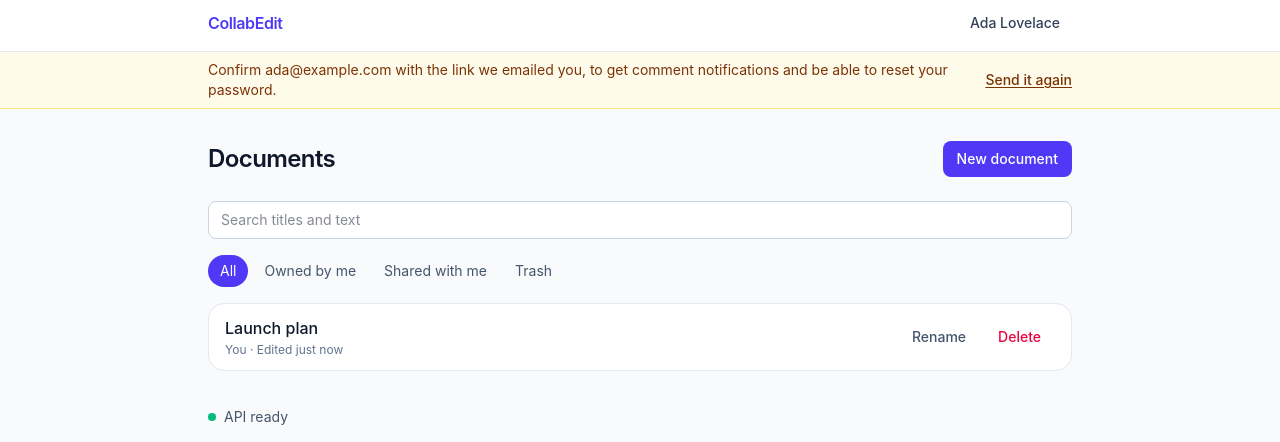
Scenario: email verification › asks unverified people to confirm their address, and resends the link
Expected: the element named "Confirm your email" shows "Confirm ada@example.com", [208,61,948,98]
Click the button "Send it again": click(1029, 80) [985,70,1072,90]
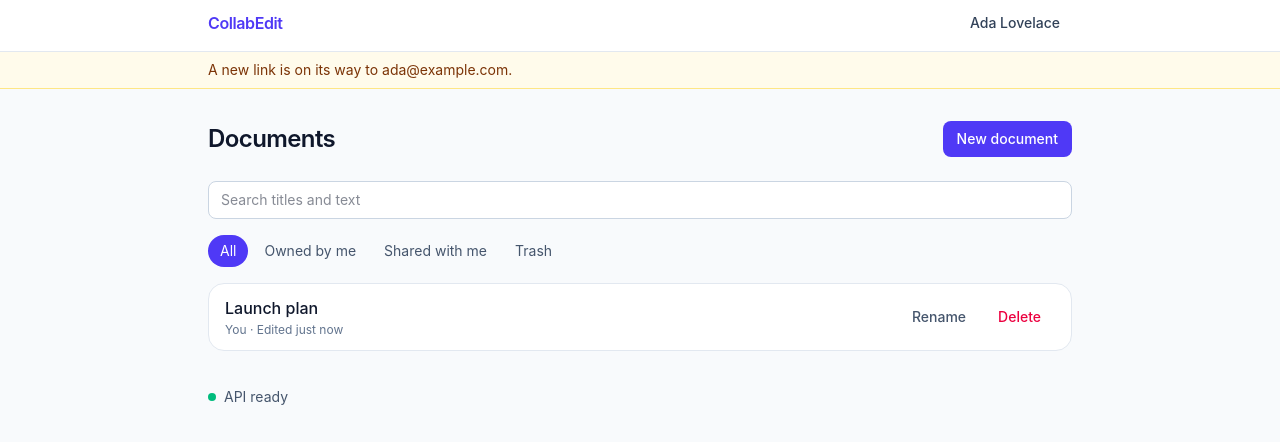
Now the text "A new link is on its way to ada@example.com." is shown, box [208,61,512,78]
